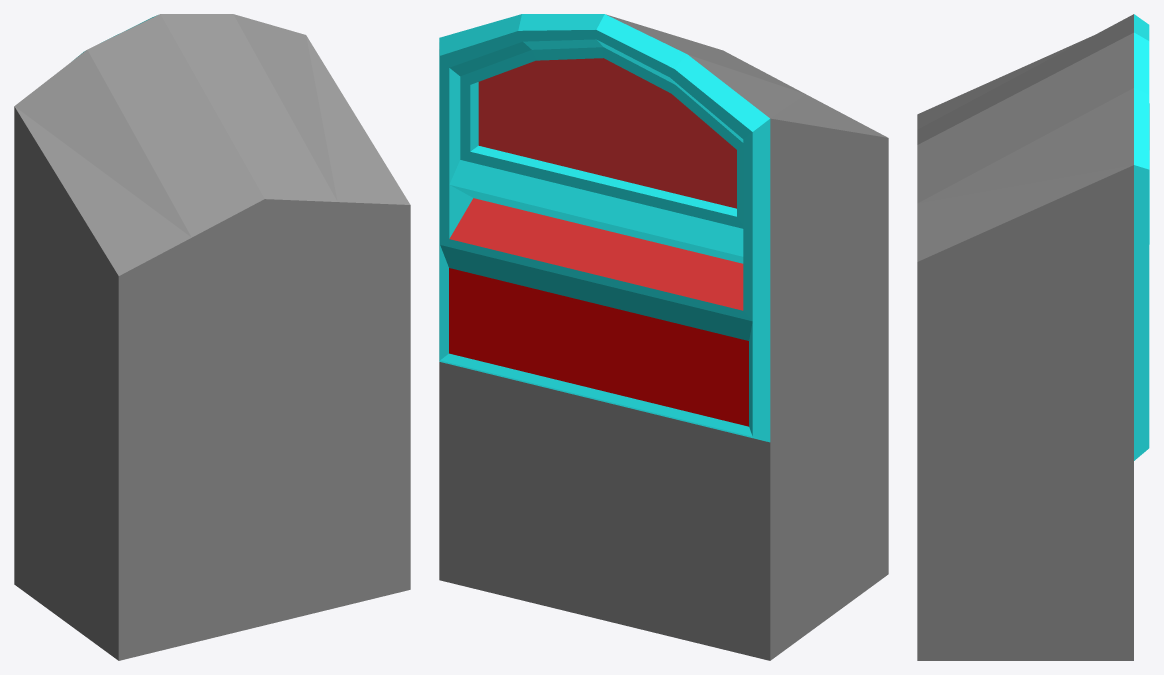
File: jukeBox.FBX
The picture shows the model from 3 angles, left to right: view 1: azimuth 30°, elevation 25°; view 2: azimuth 150°, elevation 25°; view 3: azimuth 270°, elevation 25°; orthographic projection. The views are drawn at different scales.
Visible parts, largest first — view 1: jukebox; view 2: jukebox; view 3: jukebox.
Boxes of the visible parts, <box> form: jukebox: <box>14,14,410,660</box>; jukebox: <box>439,14,888,660</box>; jukebox: <box>917,14,1149,660</box>.
Bounding box in the file's own units: 35.94 × 62.94 × 23.88.
